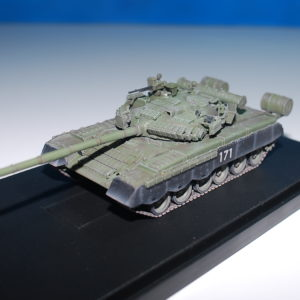Battle Tank: (33, 71, 297, 216)
